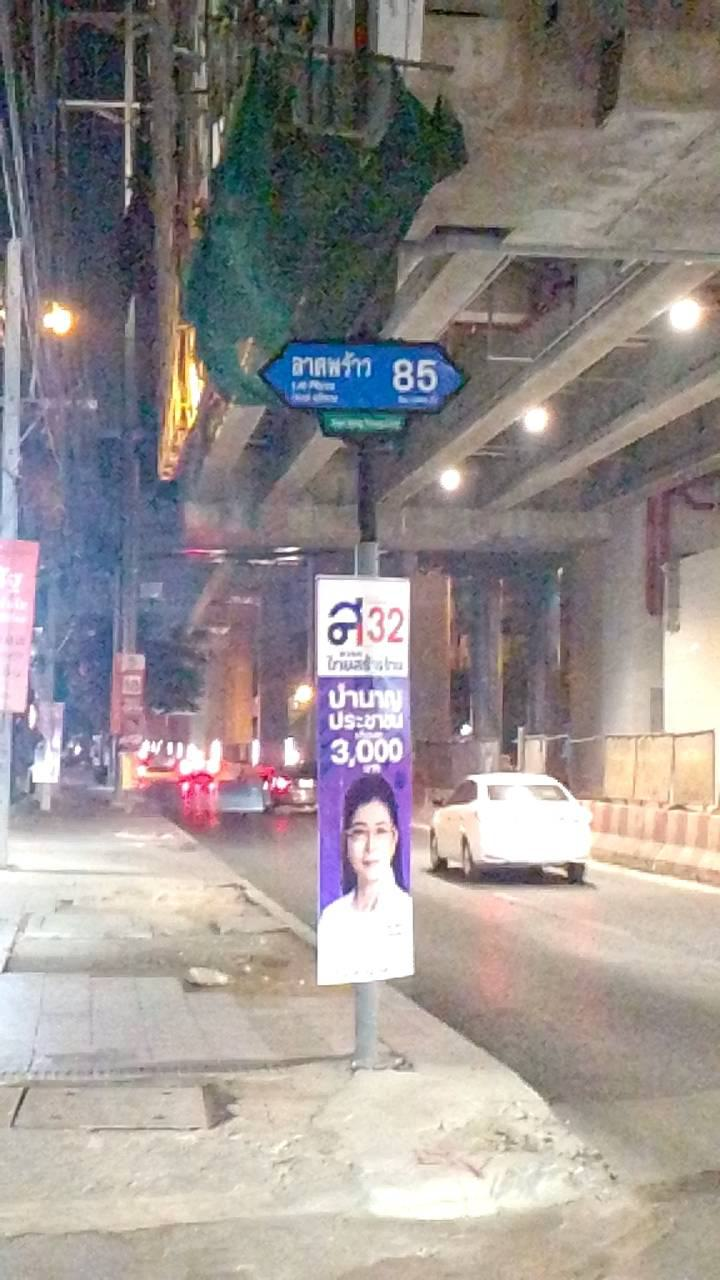Banner: (312, 569, 420, 990)
